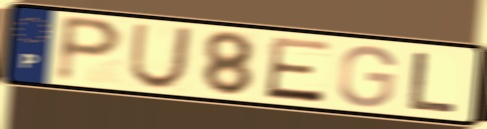8: (198, 28, 258, 99)
E: (262, 35, 334, 105)
G: (335, 43, 399, 109)
L: (405, 49, 461, 114)
P: (52, 12, 127, 85)
U: (125, 22, 196, 92)
